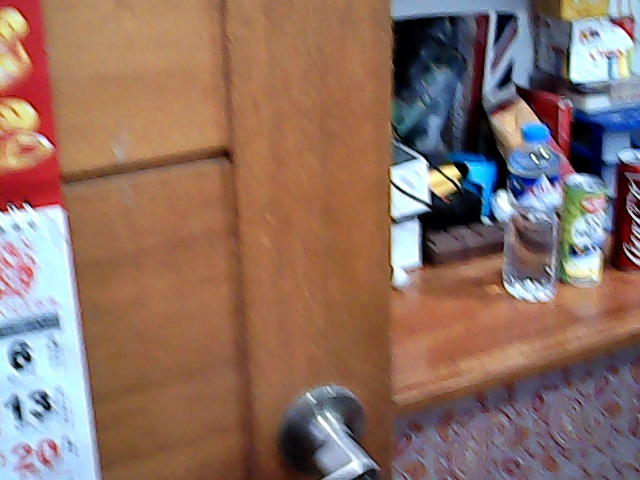Cola: (614, 146, 640, 271)
Pine Juice: (557, 174, 604, 285)
Summit Water: (499, 122, 559, 298)
